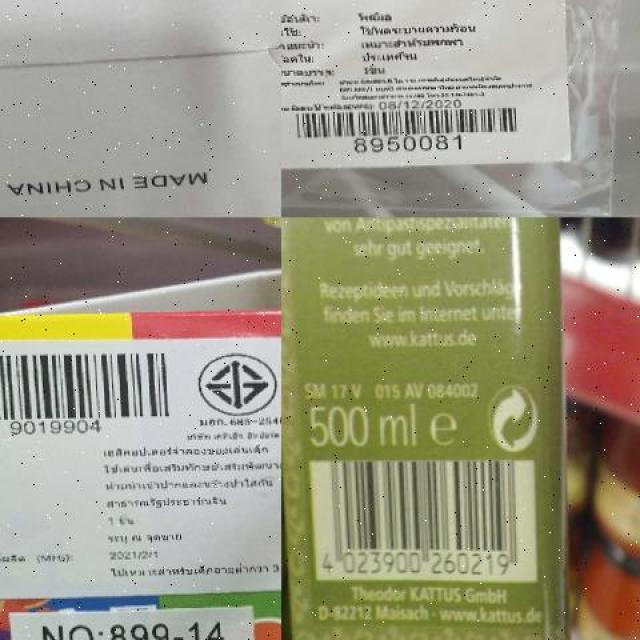Barcode: (304, 459, 533, 581), (0, 344, 181, 436), (282, 104, 521, 152)
